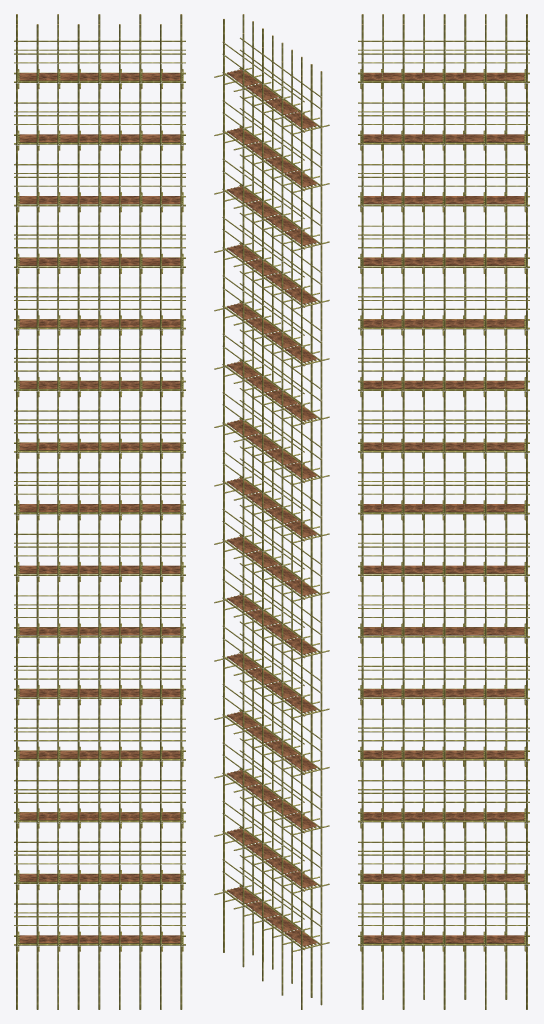
File: Scaffolding.fbx
3 views of the same model, side by side, from view 1: azimuth 90°, elevation 25°; view 2: azimuth 210°, elevation 25°; view 3: azimuth 270°, elevation 25° (orthographic). The views are drawn at different scales.
Visible parts, largest first — view 1: Circle.196, Circle.124, Circle.115, Circle.178, Circle.130, Circle.160, Circle.172, Circle.148, Circle.154, Circle.136, Circle.184, Circle.166 (+4 smaller); view 2: Circle.196, Circle.148, Circle.124, Circle.104, Circle.154, Circle.166, Circle.172, Circle.178, Circle.160, Circle.142, Circle.190, Circle.136 (+18 smaller); view 3: Circle.196, Circle.124, Circle.172, Circle.178, Circle.130, Circle.115, Circle.160, Circle.148, Circle.154, Circle.136, Circle.184, Circle.166 (+4 smaller).
Boxes of the visible parts, bbox=[...] form: Circle.196: bbox=[14, 14, 185, 88]; Circle.124: bbox=[14, 764, 185, 828]; Circle.115: bbox=[14, 825, 185, 889]; Circle.178: bbox=[14, 209, 185, 273]; Circle.130: bbox=[14, 702, 185, 766]; Circle.160: bbox=[14, 394, 185, 458]; Circle.172: bbox=[14, 271, 185, 335]; Circle.148: bbox=[14, 517, 185, 581]; Circle.154: bbox=[14, 456, 185, 520]; Circle.136: bbox=[14, 641, 185, 705]; Circle.184: bbox=[14, 148, 185, 212]; Circle.166: bbox=[14, 332, 185, 397]; Circle.196: bbox=[214, 14, 329, 134]; Circle.148: bbox=[214, 486, 329, 601]; Circle.124: bbox=[214, 720, 329, 835]; Circle.104: bbox=[214, 836, 329, 952]; Circle.154: bbox=[214, 428, 329, 543]; Circle.166: bbox=[214, 311, 329, 426]; Circle.172: bbox=[214, 253, 329, 368]; Circle.178: bbox=[214, 194, 329, 309]; Circle.160: bbox=[214, 369, 329, 484]; Circle.142: bbox=[214, 545, 329, 660]; Circle.190: bbox=[214, 77, 329, 193]; Circle.136: bbox=[214, 603, 329, 718]; Circle.196: bbox=[358, 14, 529, 88]; Circle.124: bbox=[358, 760, 529, 828]; Circle.172: bbox=[358, 266, 529, 335]; Circle.178: bbox=[358, 204, 529, 273]; Circle.130: bbox=[358, 697, 529, 766]; Circle.115: bbox=[358, 822, 529, 889]; Circle.160: bbox=[358, 391, 529, 458]; Circle.148: bbox=[358, 514, 529, 581]; Circle.154: bbox=[358, 452, 529, 520]; Circle.136: bbox=[358, 635, 529, 705]; Circle.184: bbox=[358, 144, 529, 212]; Circle.166: bbox=[358, 329, 529, 397].
Size of the model in its own units: 1.42 by 34.27 by 5.42.
